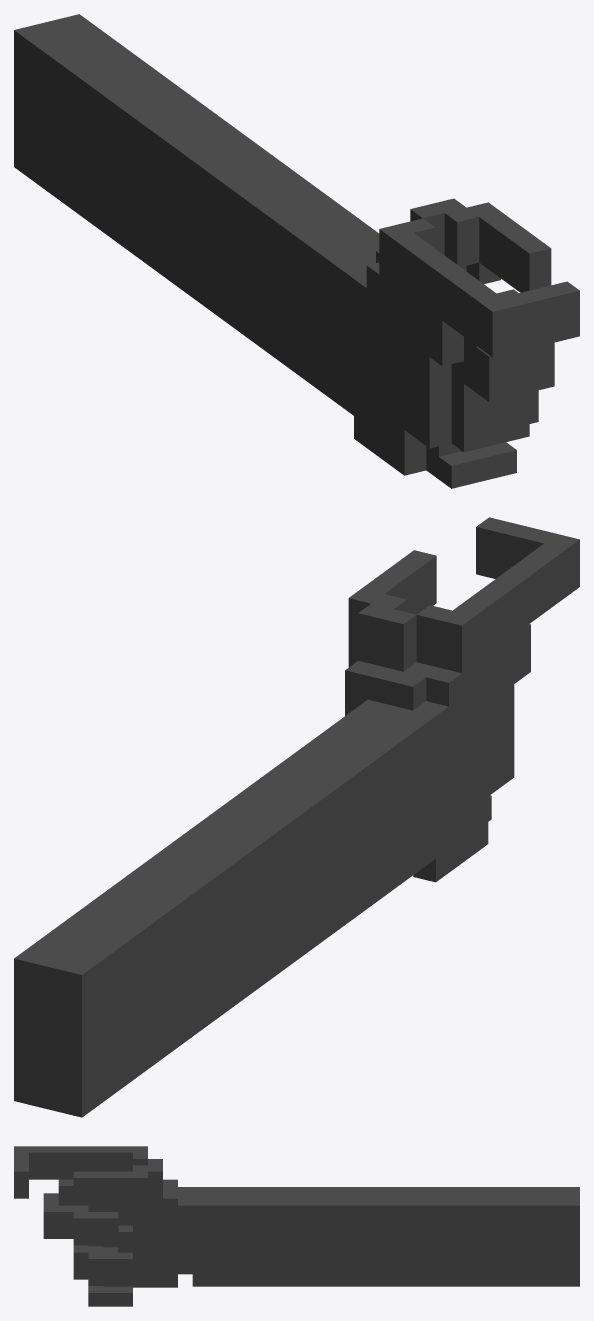
The model's file is Arm.obj.
3 views of the same model, one above another, from view 1: azimuth 30°, elevation 25°; view 2: azimuth 150°, elevation 25°; view 3: azimuth 270°, elevation 25° (orthographic). The views are drawn at different scales.
Size of the model in its own units: 0.5 by 1 by 3.8.
